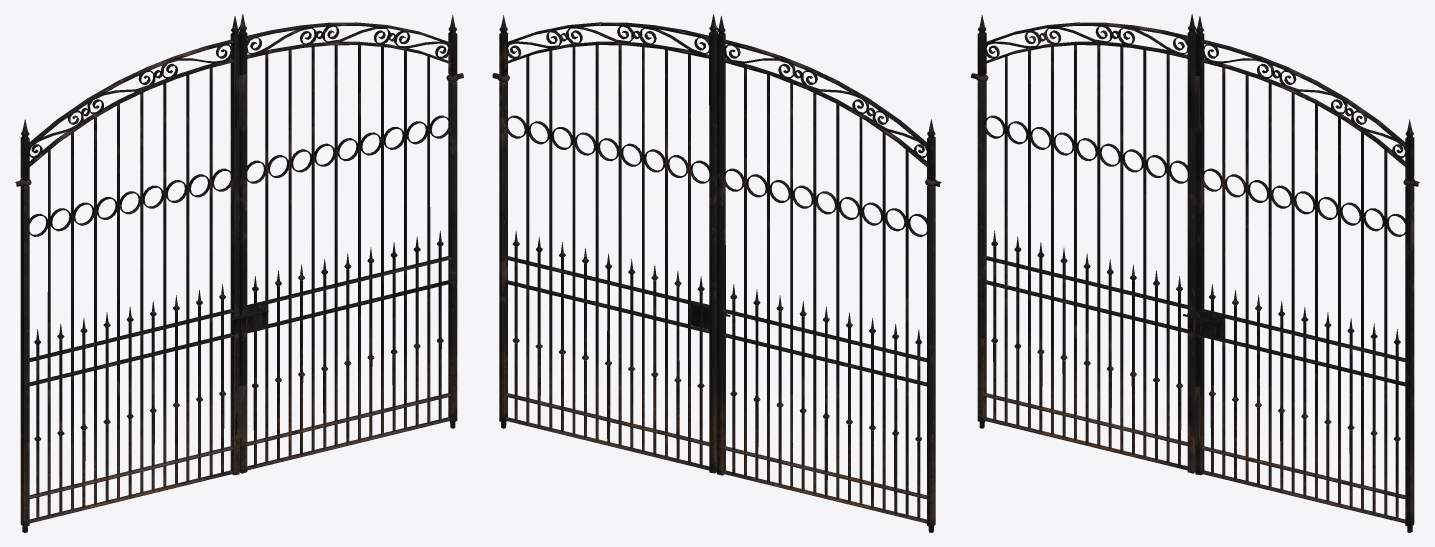
File: ph_large_iron_gate.glb
3 renders of one model, left to right at view 1: azimuth 30°, elevation 25°; view 2: azimuth 150°, elevation 25°; view 3: azimuth 330°, elevation 25°, orthographic.
Visible parts, largest first — view 1: large_iron_gate_right_door; view 2: large_iron_gate_right_door; view 3: large_iron_gate_right_door.
Boxes of the visible parts, x1,y1,x2,y2 form: large_iron_gate_right_door: (15,14,463,532); large_iron_gate_right_door: (492,14,941,532); large_iron_gate_right_door: (971,14,1419,532).
Bounding box in the file's own units: 2.95 × 2.93 × 0.0967.
1 material, 1 textured.
